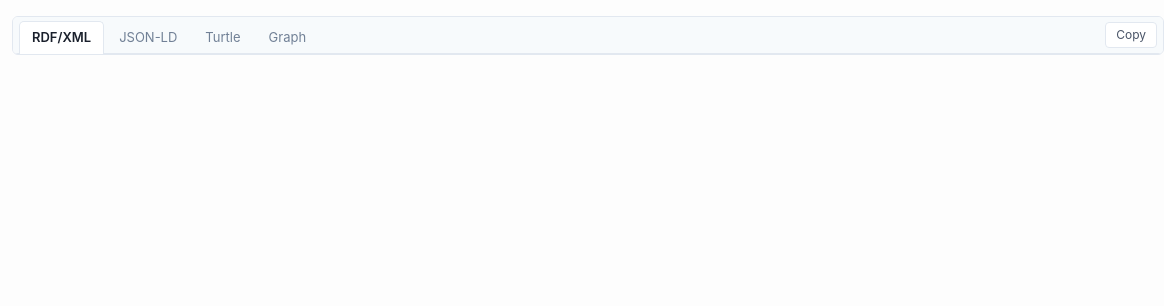
Test: RdfCodeBlock › converts to Turtle and JSON-LD on demand
What coordinates should you click on to do the following:
click the tab "Turtle"
I would click on:
 (223, 37)
Its box is [192,21,254,54].
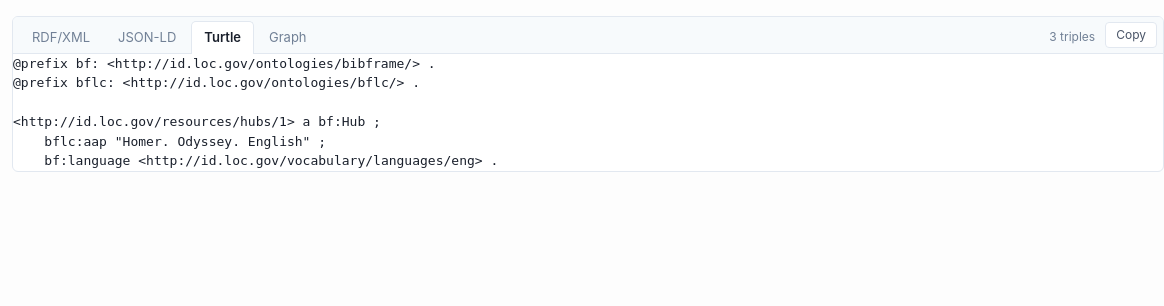
Result: the element with class "language-turtle" shows "a bf:Hub" at [13,56,498,168]
Result: the element with class "language-turtle" shows "bflc:aap \"Homer. Odyssey. English\"" at [13,56,498,168]
Result: the text with class "rdf-meta" reads "3 triples" at [1049,29,1095,44]
What coordinates should you click on to do the following:
click the tab "JSON-LD"
I would click on:
 (147, 37)
Its box is [105,21,189,54].
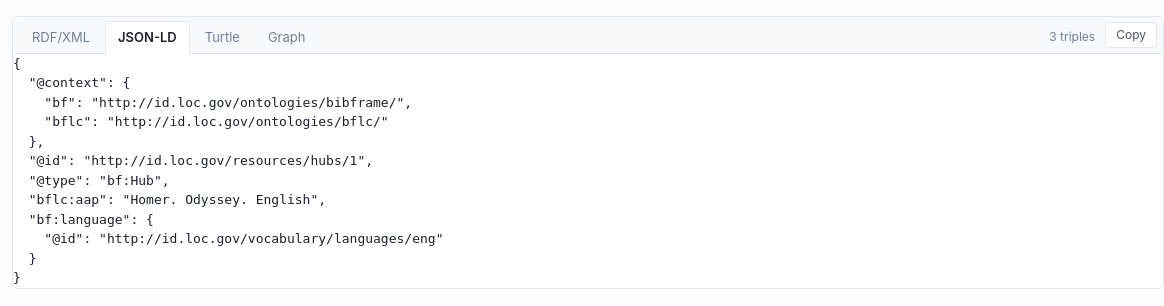
Result: the element with class "language-json" shows "\"@type\": \"bf:Hub\"" at [13,56,444,285]
